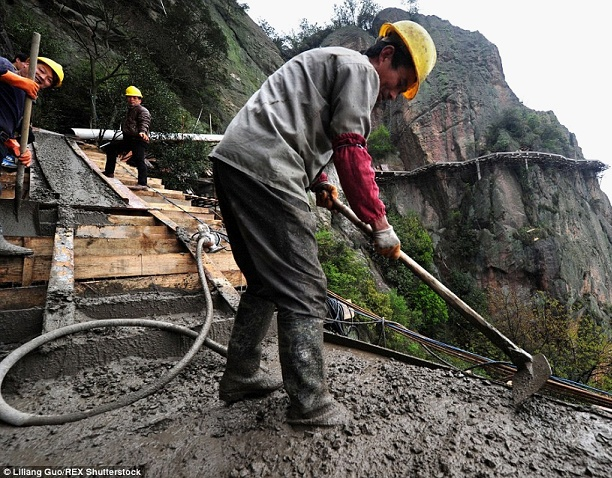none: (12, 51, 32, 71)
yellow: (368, 15, 437, 105), (23, 55, 66, 93), (123, 83, 142, 107)
